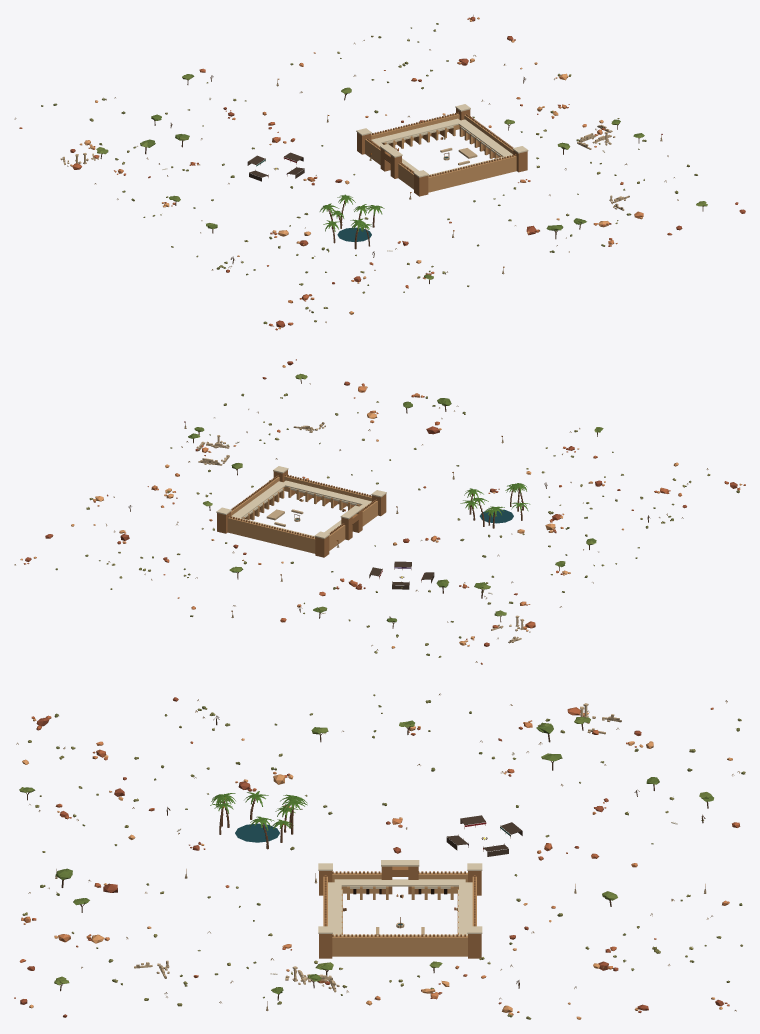
Rendered from town.glb.
The picture shows the model from 3 angles, top to bottom: view 1: azimuth 30°, elevation 25°; view 2: azimuth 150°, elevation 25°; view 3: azimuth 270°, elevation 25°; orthographic projection. The views are drawn at different scales.
Visible parts, largest first — view 1: Town; view 2: Town; view 3: Town.
Boxes of the visible parts, x1,y1,x2,y2 form: Town: (14, 15, 745, 330); Town: (14, 359, 745, 664); Town: (14, 693, 745, 1019).
Bounding box in the file's own units: 224 × 16.3 × 226.
